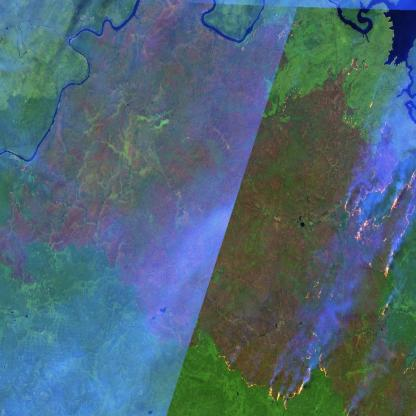fire: (343, 57, 416, 322), (213, 338, 334, 412)
